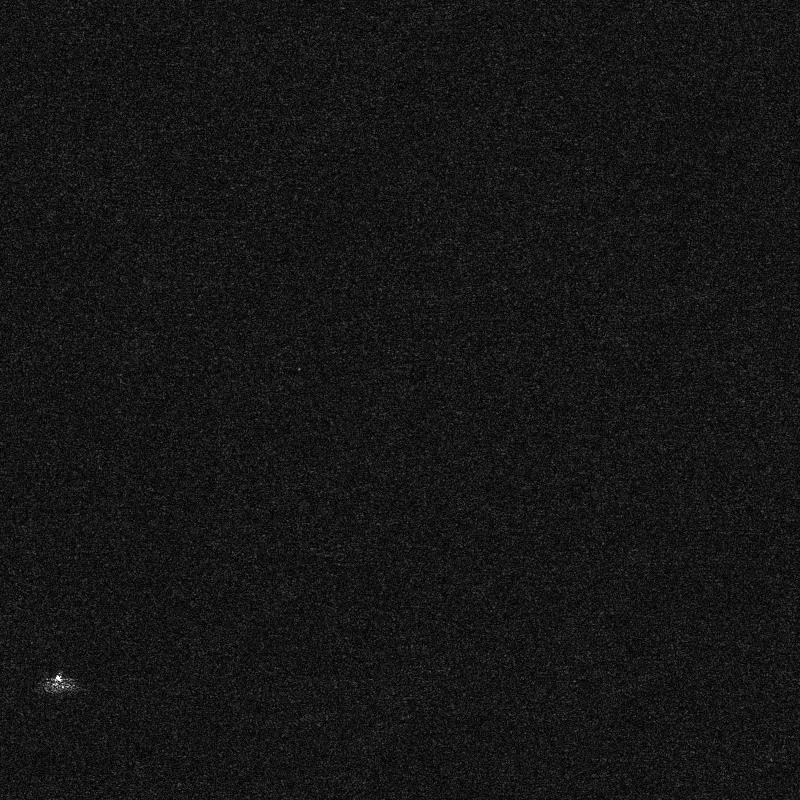sea: (51, 84, 755, 656)
